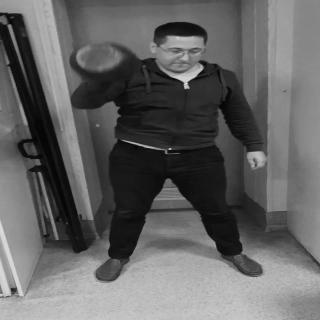kettlebell: (70, 42, 142, 83)
